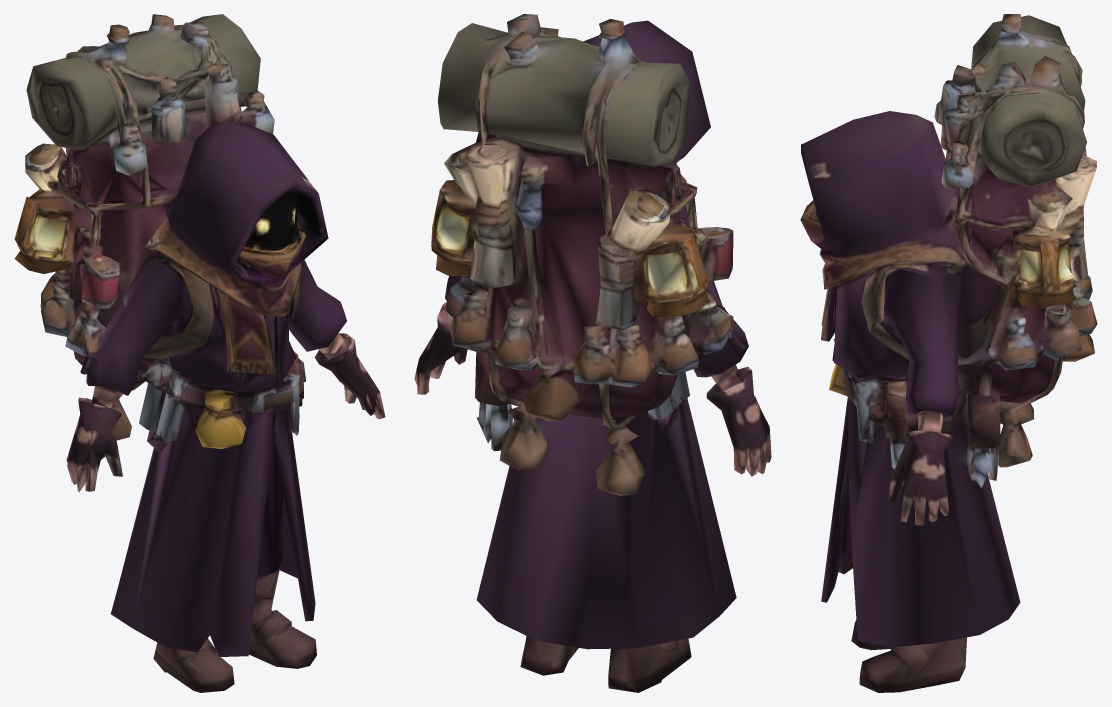
File: mystery.glb
3 views of the same model, side by side, from view 1: azimuth 30°, elevation 25°; view 2: azimuth 150°, elevation 25°; view 3: azimuth 270°, elevation 25° (orthographic). The views are drawn at different scales.
Visible parts, largest first — view 1: node_0; view 2: node_0; view 3: node_0.
Boxes of the visible parts, x1,y1,x2,y2 form: node_0: [14, 14, 385, 692]; node_0: [414, 14, 771, 692]; node_0: [800, 14, 1097, 692].
Size of the model in its own units: 0.3678 by 0.7063 by 0.3096.
1 material, 1 textured.
